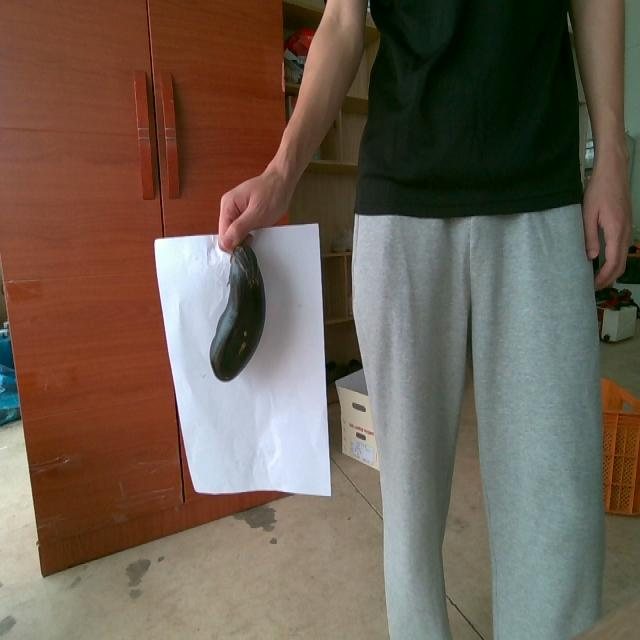Egg plant: (210, 244, 265, 380)
